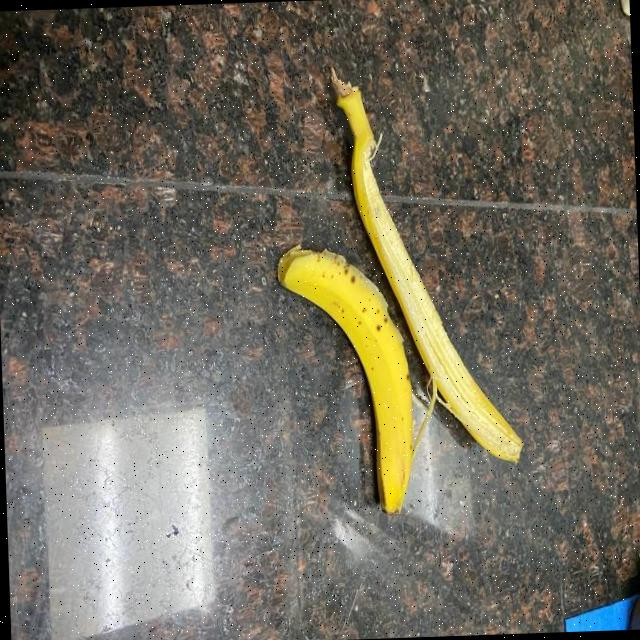banana-peel: (326, 58, 525, 470), (274, 239, 417, 518)
